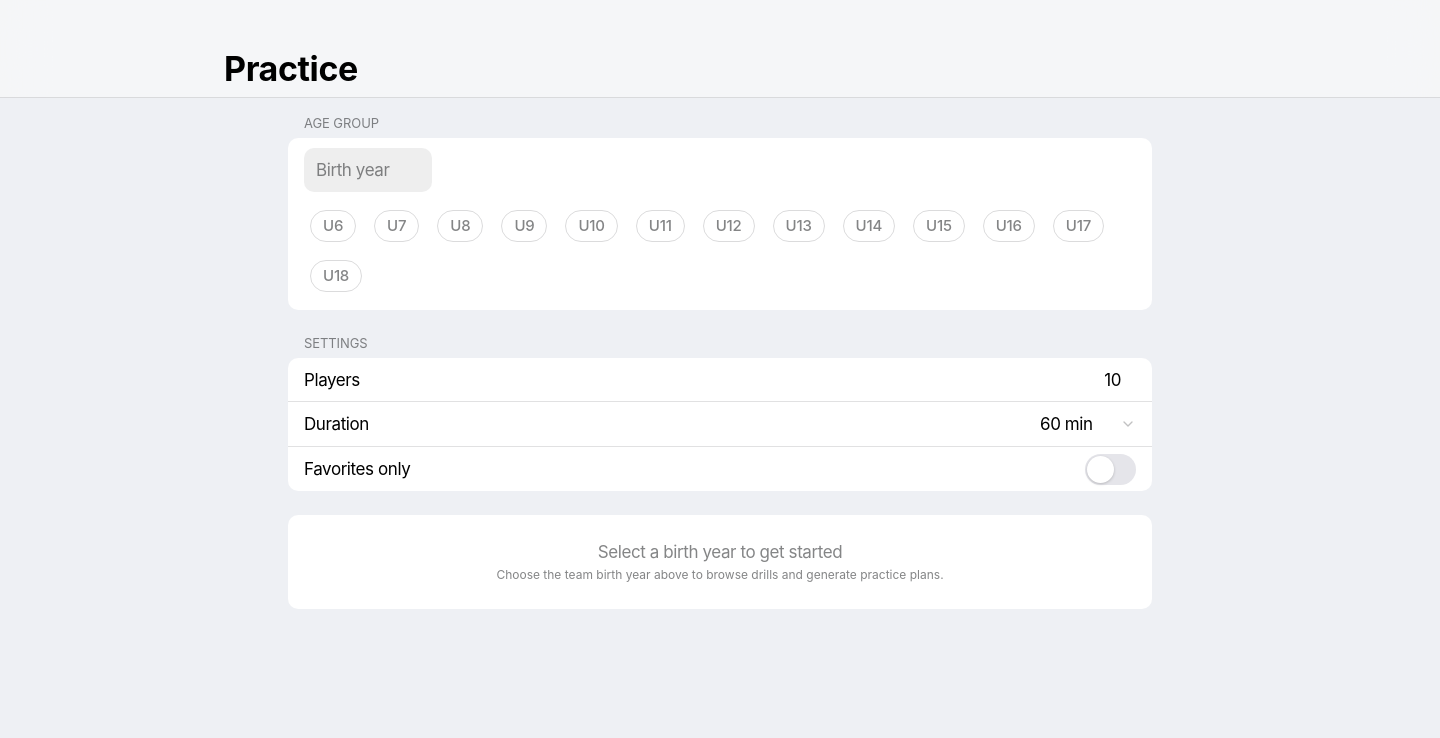
Practice page › generates a plan when categories are selected
Click the button "U10". click: [592, 226]
box: [560,204,624,248]
(page scrolled)
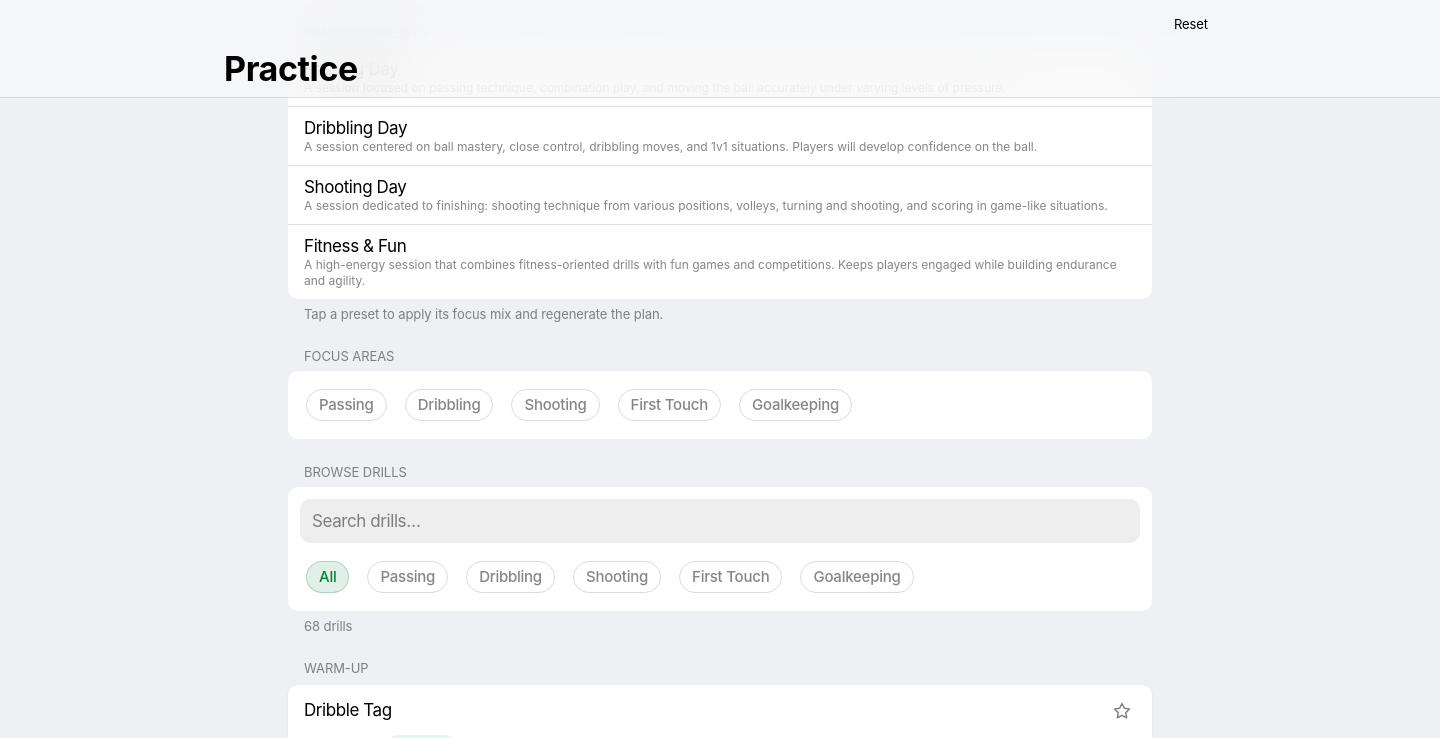
Click the button "Passing" below "Focus Areas". click: [346, 405]
box: [300,383,393,427]
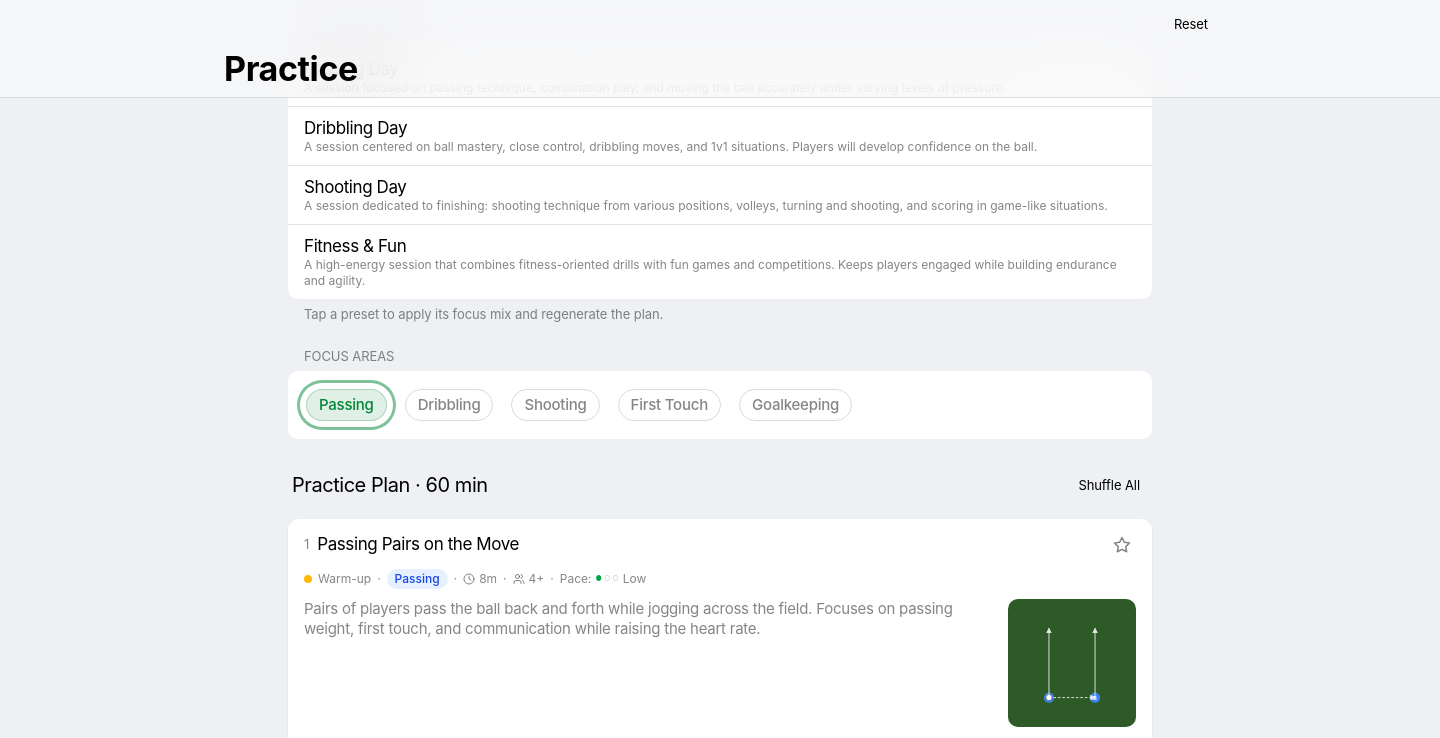
Expected: the heading "Practice Plan · 60 min" is shown, [292,472,488,498]
